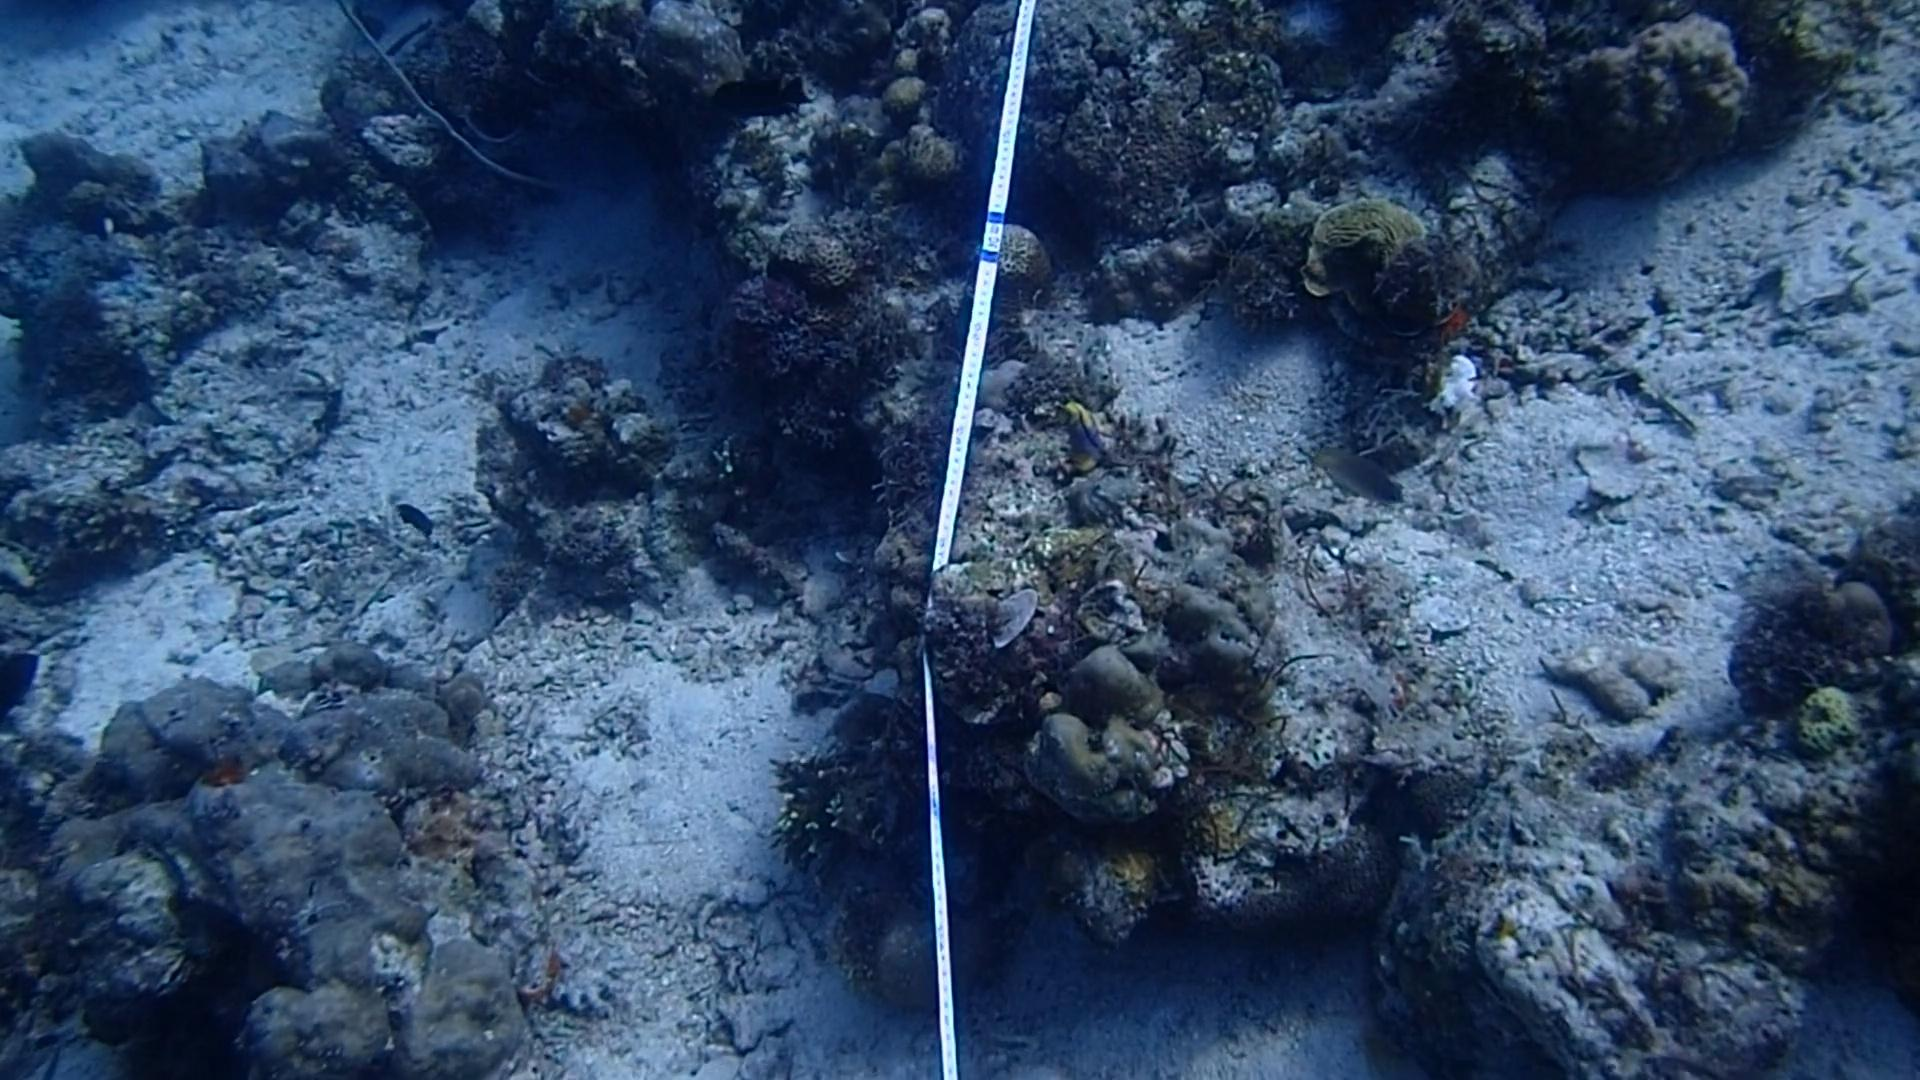Dark Fish: (708, 63, 818, 132), (0, 638, 40, 723), (400, 491, 435, 542)
Light Fish: (1312, 440, 1414, 504)
